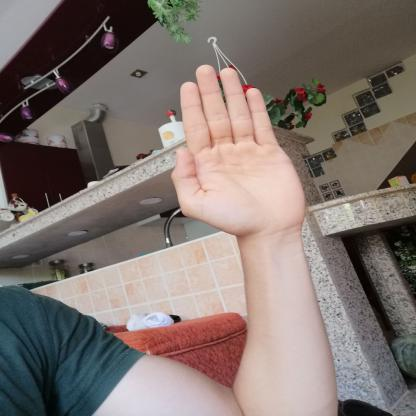SEEN: (159, 55, 317, 243)
